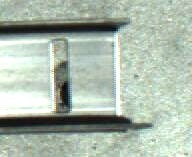40ngpress: (20, 19, 130, 129)
